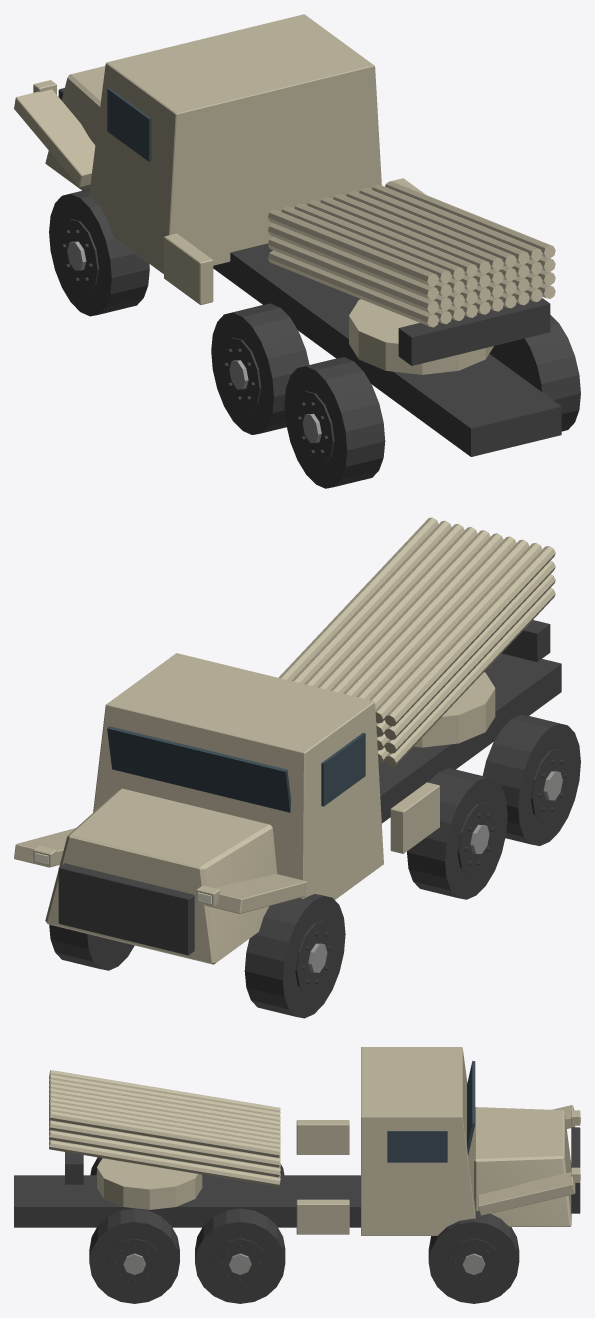
File: rus_mlrs_grad.glb
3 renders of one model, top to bottom at view 1: azimuth 30°, elevation 25°; view 2: azimuth 150°, elevation 25°; view 3: azimuth 270°, elevation 25°, orthographic. The views are drawn at different scales.
Parts seen in each view (by area): view 1: body, barrel, wheel_4, wheel_2, wheel_0, wheel_5, turret; view 2: body, barrel, wheel_0, wheel_4, wheel_2, turret, wheel_1; view 3: body, barrel, wheel_3, wheel_5, wheel_1, turret.
Part boxes in pixels (bbox=[...]): body: bbox=[14, 14, 561, 456]; barrel: bbox=[268, 181, 555, 365]; wheel_4: bbox=[284, 357, 385, 488]; wheel_2: bbox=[211, 303, 309, 434]; wheel_0: bbox=[49, 189, 149, 316]; wheel_5: bbox=[489, 315, 580, 431]; turret: bbox=[349, 299, 493, 374]; body: bbox=[14, 653, 561, 964]; barrel: bbox=[278, 517, 555, 767]; wheel_0: bbox=[244, 894, 345, 1018]; wheel_4: bbox=[482, 714, 580, 845]; wheel_2: bbox=[407, 768, 507, 899]; turret: bbox=[414, 672, 495, 747]; wheel_1: bbox=[49, 924, 134, 970]; body: bbox=[14, 1047, 580, 1235]; barrel: bbox=[49, 1070, 280, 1187]; wheel_3: bbox=[195, 1208, 285, 1303]; wheel_5: bbox=[89, 1208, 179, 1303]; wheel_1: bbox=[428, 1210, 519, 1303]; turret: bbox=[97, 1158, 202, 1209].
Size of the model in its own units: 2.7 by 2.65 by 7.52.
